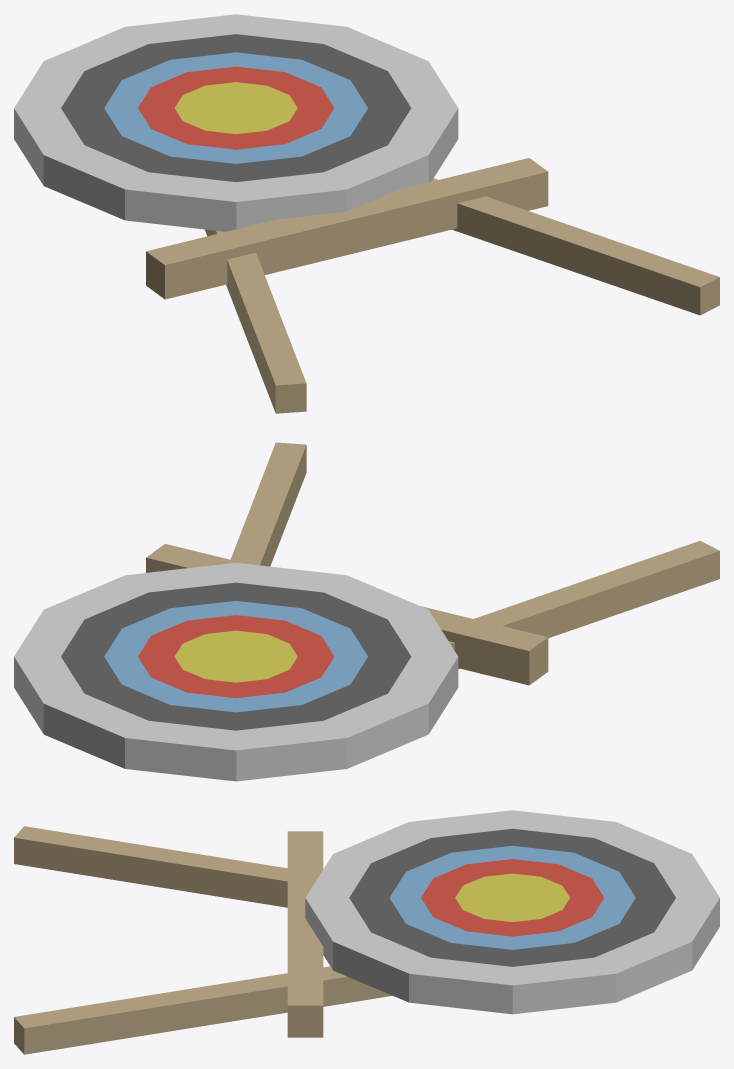
File: target.fbx
3 views of the same model, one above another, from view 1: azimuth 30°, elevation 25°; view 2: azimuth 150°, elevation 25°; view 3: azimuth 270°, elevation 25° (orthographic). The views are drawn at different scales.
Visible parts, largest first — view 1: target, structure; view 2: target, structure; view 3: target, structure.
Part boxes in pixels (x1,y1,x2,y2): target: (14,14,458,231); structure: (146,158,719,413); target: (14,562,458,781); structure: (146,442,719,685); target: (305,810,719,1014); structure: (14,826,392,1054).
Size of the model in its own units: 2.31 by 0.297 by 3.41.
